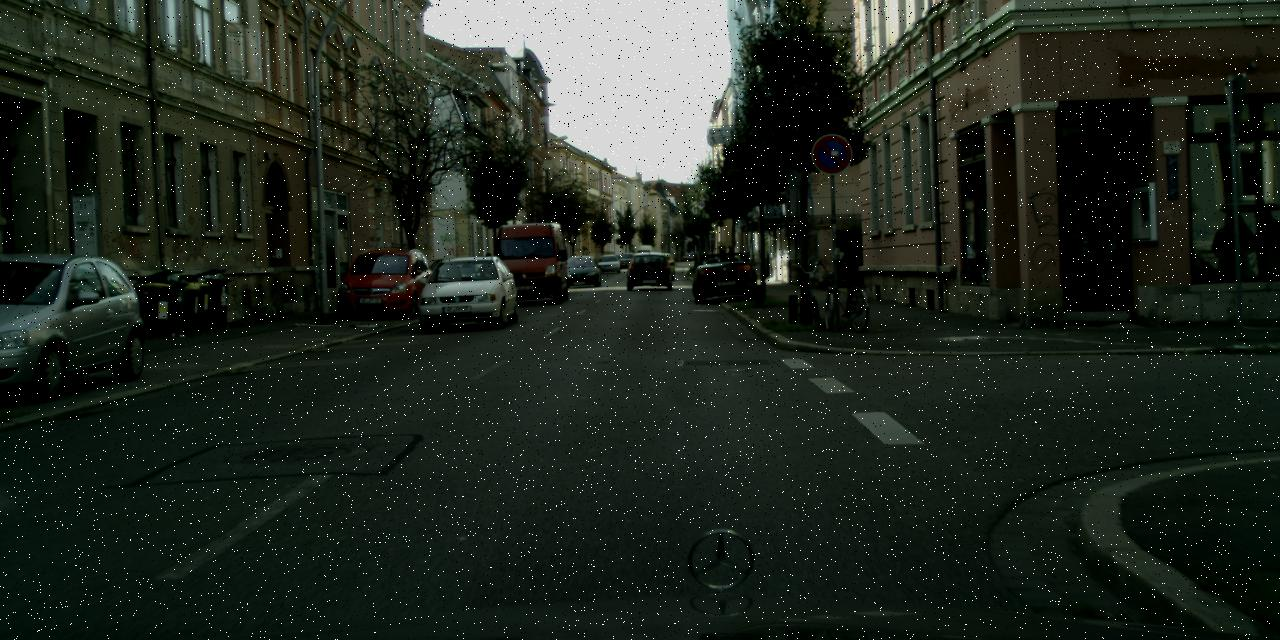ped: (718, 242, 726, 264)
